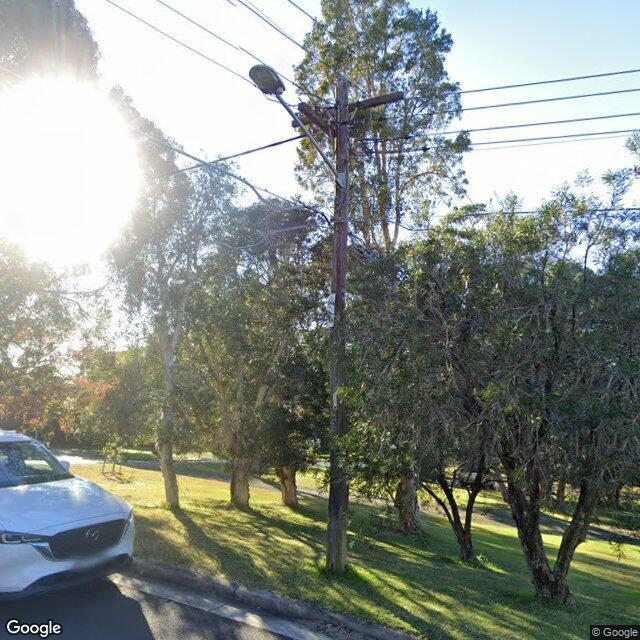crossarm: (291, 88, 404, 130), (297, 104, 338, 144)
streetlight: (250, 64, 346, 189)
timber-pole: (326, 82, 352, 572)
